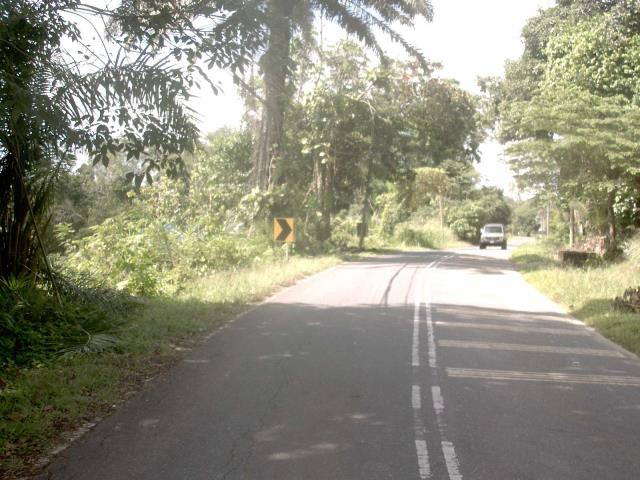traffic_sign: (267, 212, 300, 252)
